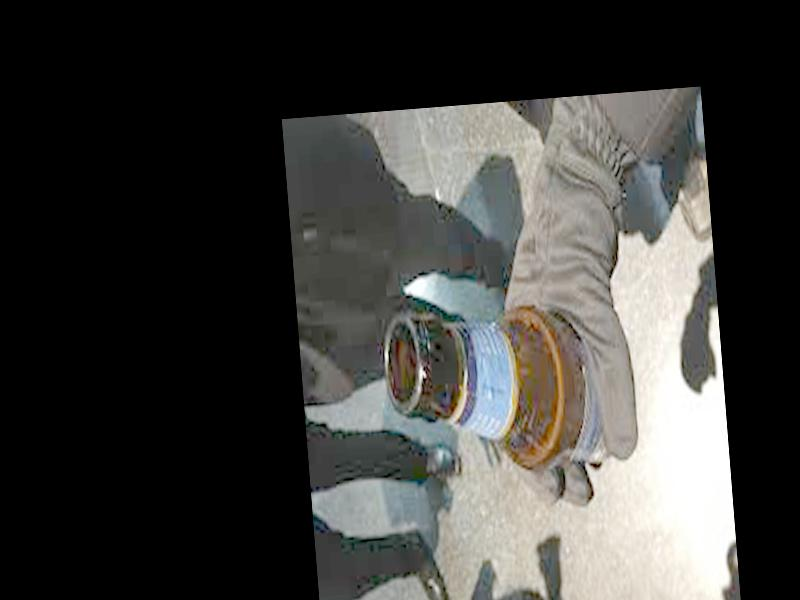Beer: (380, 293, 626, 490)
